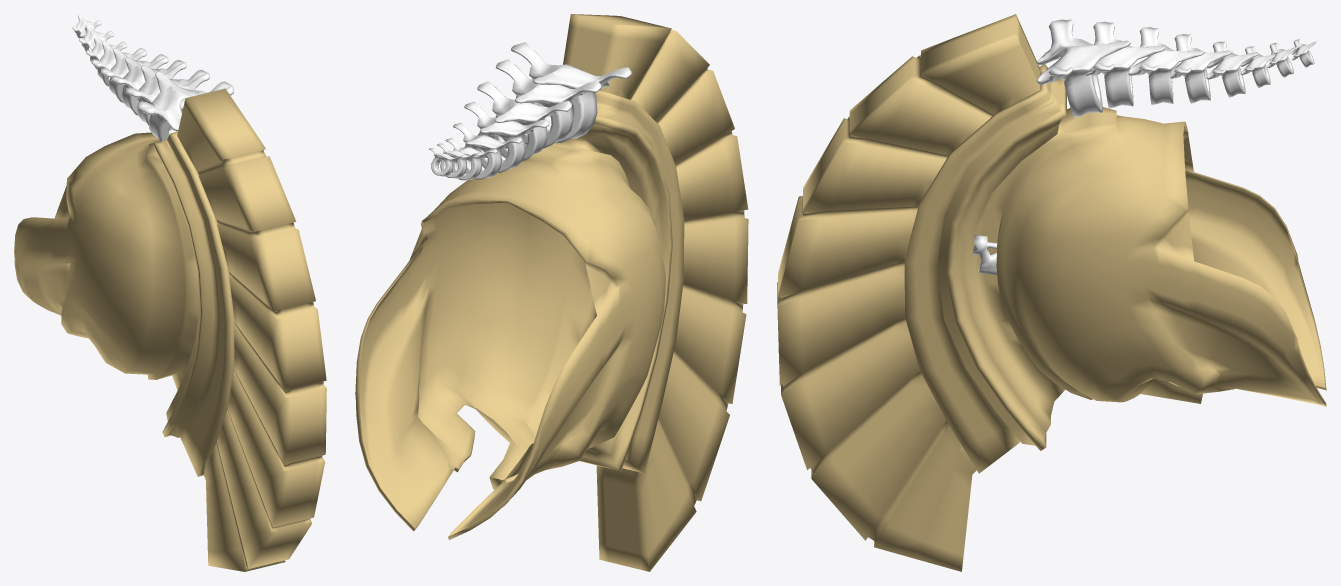
The model's file is Agamemnon Helmet.glb.
3 views of the same model, side by side, from view 1: azimuth 30°, elevation 25°; view 2: azimuth 150°, elevation 25°; view 3: azimuth 270°, elevation 25° (orthographic). The views are drawn at different scales.
Visible parts, largest first — view 1: Plane.025, Plane.034, Plane.026, Plane.027, Plane.028, Plane.029, Plane.030, Plane.032; view 2: Plane.025, Plane.034, Plane.026, Plane.027, Plane.028, Plane.029, Plane.030, Plane.031, Plane.032; view 3: Plane.025, Plane.034, Plane.026, Plane.027, Plane.028, Plane.029, Plane.030, Plane.031, Cube.002.
Boxes of the visible parts, x1=… form: Plane.025: x1=14, y1=131, x2=234, y2=476; Plane.034: x1=177, y1=88, x2=326, y2=571; Plane.026: x1=137, y1=71, x2=233, y2=141; Plane.027: x1=125, y1=65, x2=209, y2=128; Plane.028: x1=111, y1=57, x2=186, y2=115; Plane.029: x1=100, y1=48, x2=168, y2=102; Plane.030: x1=91, y1=41, x2=146, y2=86; Plane.032: x1=79, y1=24, x2=113, y2=51; Plane.025: x1=355, y1=90, x2=684, y2=539; Plane.034: x1=563, y1=14, x2=748, y2=571; Plane.026: x1=510, y1=42, x2=631, y2=142; Plane.027: x1=495, y1=59, x2=601, y2=148; Plane.028: x1=477, y1=81, x2=571, y2=161; Plane.029: x1=464, y1=101, x2=549, y2=172; Plane.030: x1=453, y1=122, x2=522, y2=179; Plane.031: x1=445, y1=138, x2=497, y2=180; Plane.032: x1=437, y1=143, x2=480, y2=178; Plane.025: x1=904, y1=64, x2=1326, y2=473; Plane.034: x1=777, y1=14, x2=1040, y2=571; Plane.026: x1=1036, y1=19, x2=1130, y2=118; Plane.027: x1=1086, y1=21, x2=1164, y2=108; Plane.028: x1=1128, y1=27, x2=1203, y2=105; Plane.029: x1=1170, y1=34, x2=1232, y2=103; Plane.030: x1=1206, y1=41, x2=1259, y2=97; Plane.031: x1=1240, y1=46, x2=1275, y2=87; Cube.002: x1=973, y1=235, x2=997, y2=274.
Bounding box in the file's own units: 1.49 × 3.95 × 3.68.
